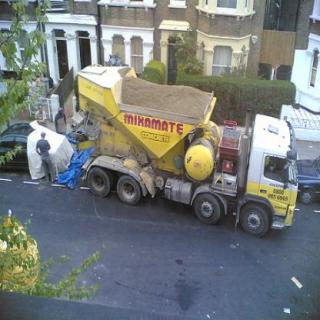Normal_vehicle: (73, 60, 302, 238)
